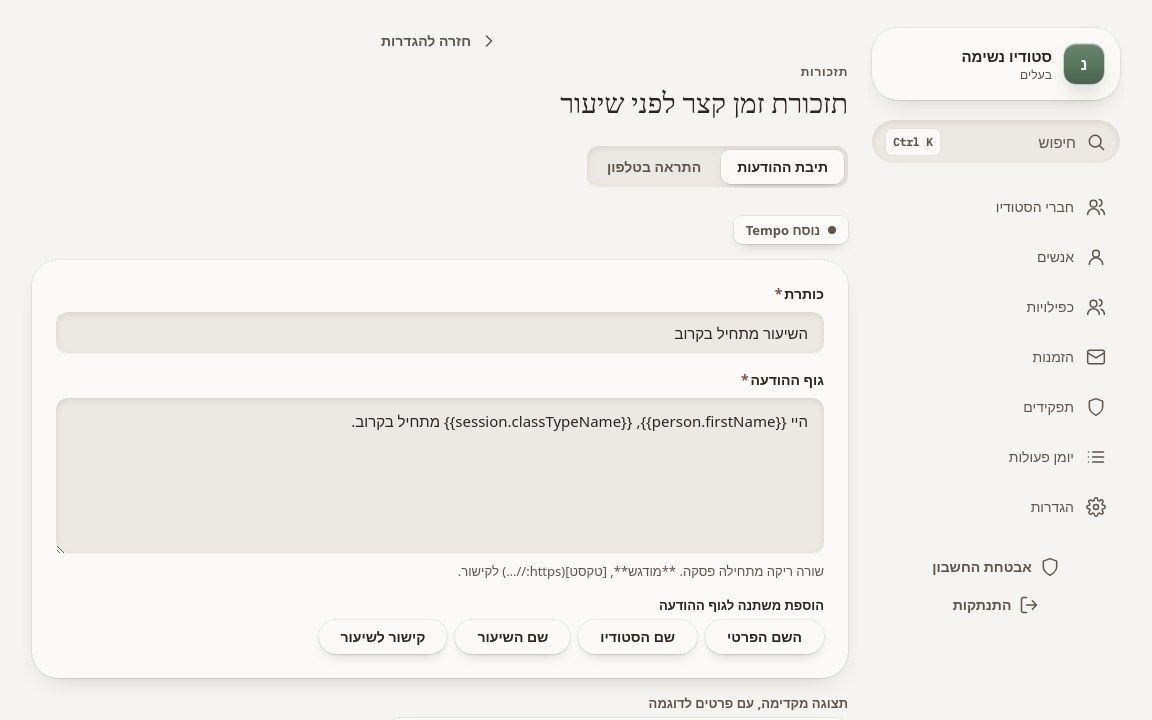
Test: notification templates › inserts a variable, previews with sample values and saves only the edited channel
The width and height of the screenshot is (1152, 720).
In the field labelled "כותרת": (440, 333) [56, 312, 824, 354], type " ב"
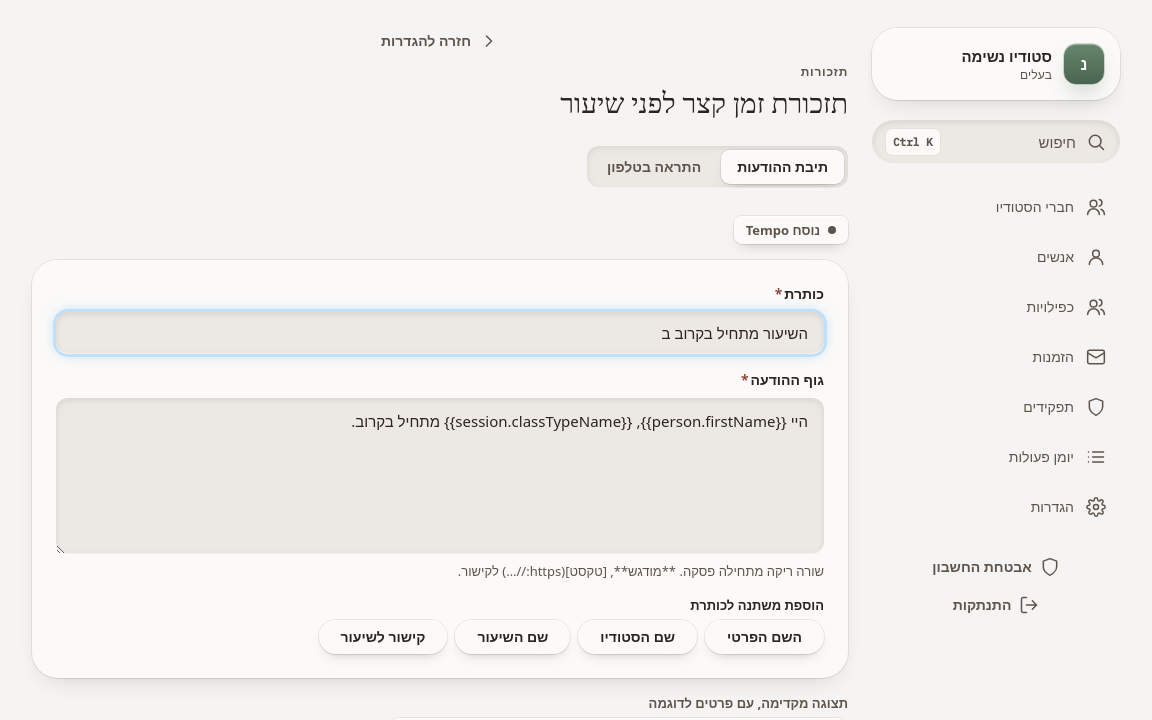
Click the button "שם הסטודיו": (638, 637) [578, 620, 697, 654]
(page scrolled)
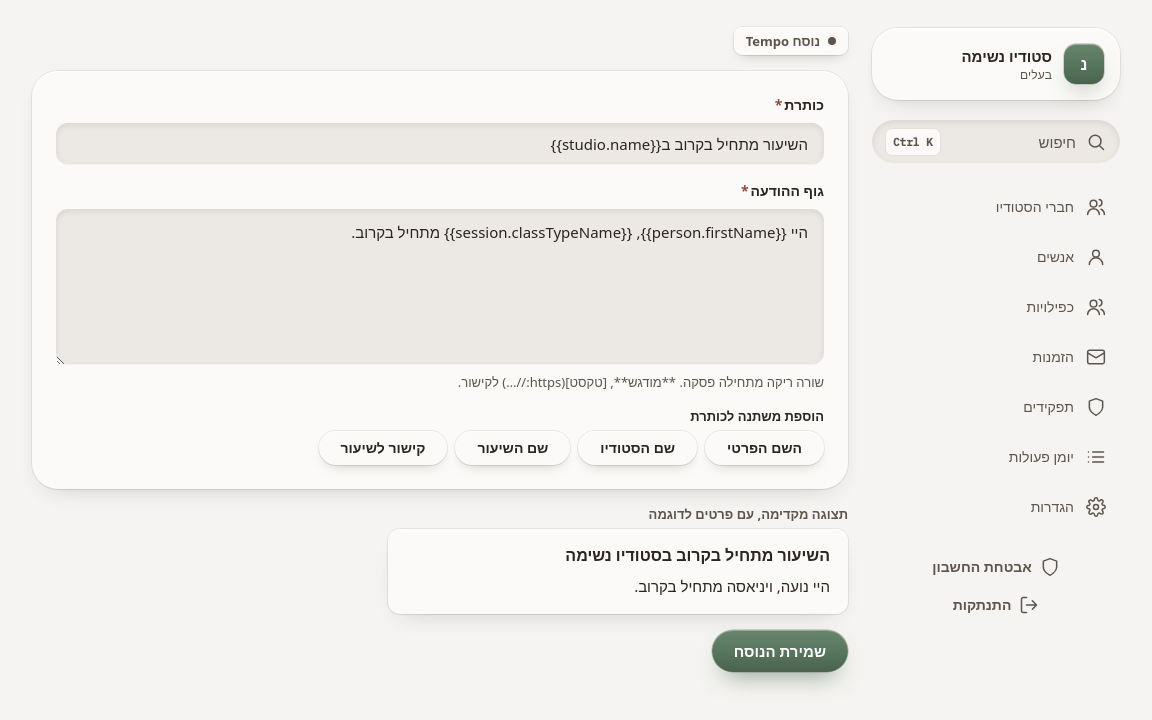
Result: the field labelled "כותרת" holds "השיעור מתחיל בקרוב ב{{studio.name}}" at [56, 123, 824, 165]
Result: the element named "תצוגה מקדימה של הודעה בתיבה" shows "השיעור מתחיל בקרוב בסטודיו נשימה" at [388, 529, 848, 614]
Click the button "שמירת הנוסח": (780, 651) [712, 630, 848, 672]
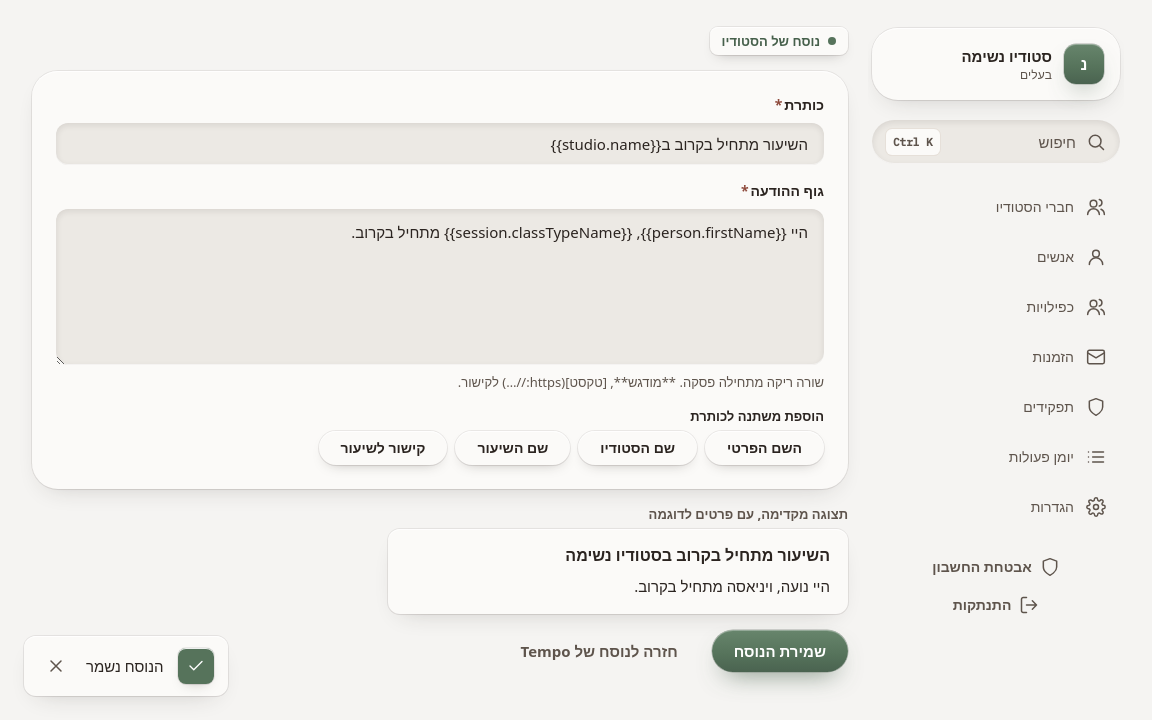
Result: the text "הנוסח נשמר" is shown at [86, 655, 164, 677]
